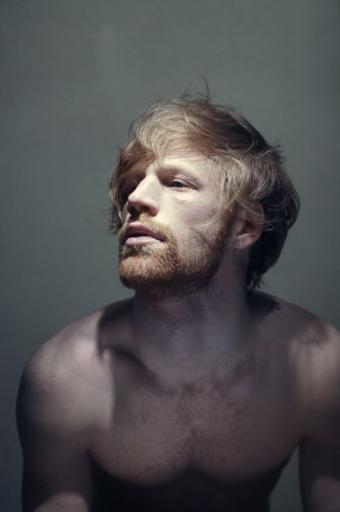left_eye: (166, 178, 200, 197)
left_lip_corner: (157, 233, 170, 247)
